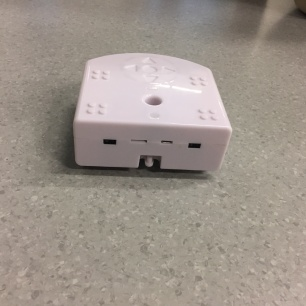thymio: (64, 48, 235, 177)
